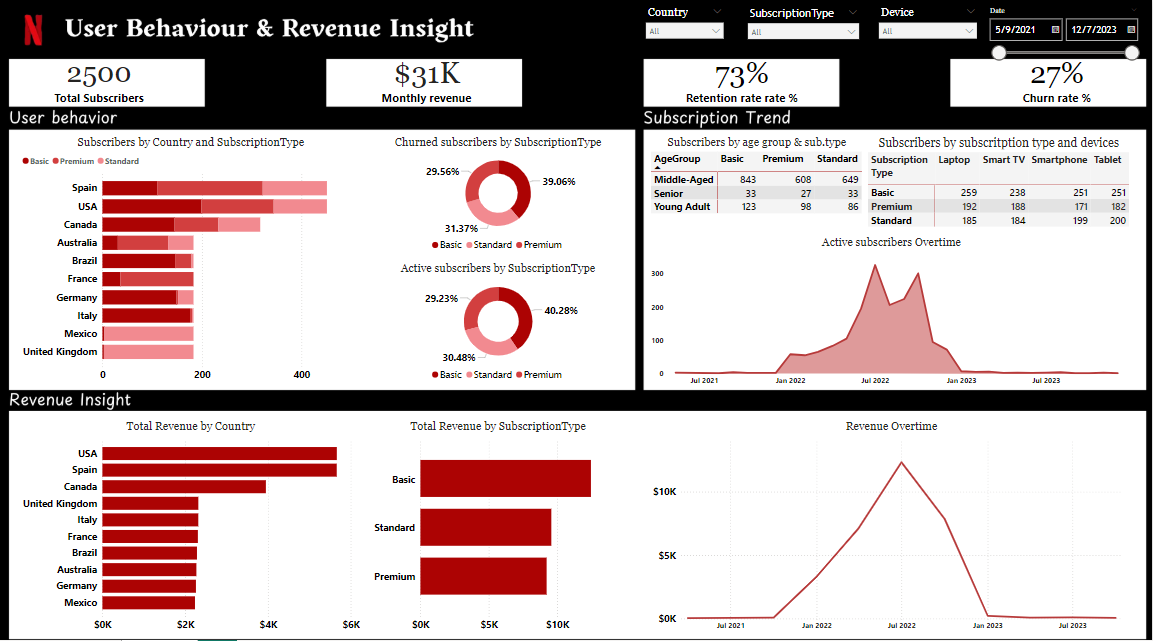

The page's visual inventory and layout, read from the dashboard file:
{"tool":"powerbi","page":{"name":"Page 1","canvas":[1920,1080],"ordinal":0},"visuals":[{"type":"card","fields":{"Values":["Netflix Userbase.Total Subscribers"]},"box":[11.7,80,306.7,100],"z":0},{"type":"card","fields":{"Values":["Netflix Userbase.Churn rate %"]},"box":[1615.5,79.3,293.1,100],"z":1000},{"type":"pivotTable","title":"Subscribers by age group & sub.type","fields":{"Values":["Netflix Userbase.Total Subscribers"],"Rows":["Netflix Userbase.AgeGroup"],"Columns":["Netflix Userbase.SubscriptionType"]},"box":[1079.7,227.1,362.7,149.2],"z":2000},{"type":"areaChart","title":"Active subscribers Overtime","fields":{"Category":["DateTable.Date.Variation.Date Hierarchy.Year","DateTable.Date.Variation.Date Hierarchy.Quarter","DateTable.Date.Variation.Date Hierarchy.Month","DateTable.Date.Variation.Date Hierarchy.Day"],"Y":["Netflix Userbase.Active subscribers"]},"box":[1079.7,393.2,811.9,259.3],"z":3000},{"type":"pivotTable","title":"Subscribers by subscritption type and devices","fields":{"Rows":["Netflix Userbase.SubscriptionType"],"Columns":["Netflix Userbase.Device"],"Values":["Netflix Userbase.Total Subscribers"]},"box":[1442.4,227.1,445.8,166.1],"z":4000},{"type":"card","fields":{"Values":["Netflix Userbase.Monthly revenue"]},"box":[556.7,80,308.3,100],"z":5000},{"type":"card","fields":{"Values":["Netflix Userbase.Retention rate rate %"]},"box":[1081.7,80,310,100],"z":6000},{"type":"barChart","title":"Total Revenue by Country","fields":{"Category":["Netflix Userbase.Country"],"Y":["Sum(Netflix Userbase.MonthlyRevenue)"]},"box":[32.2,700,572.9,361],"z":7000},{"type":"barChart","title":"Total Revenue by SubscriptionType","fields":{"Category":["Netflix Userbase.SubscriptionType"],"Y":["Sum(Netflix Userbase.MonthlyRevenue)"]},"box":[616.9,700,427.1,361],"z":8000},{"type":"barChart","title":"Subscribers by Country and SubscriptionType","fields":{"Category":["Netflix Userbase.Country"],"Y":["Netflix Userbase.Total Subscribers"],"Series":["Netflix Userbase.SubscriptionType"]},"box":[32.2,227.1,572.9,418.6],"z":9000},{"type":"lineChart","title":"Revenue Overtime","fields":{"Y":["Netflix Userbase.Monthly revenue"],"Category":["DateTable.Date.Variation.Date Hierarchy.Year","DateTable.Date.Variation.Date Hierarchy.Quarter","DateTable.Date.Variation.Date Hierarchy.Month","DateTable.Date.Variation.Date Hierarchy.Day"]},"box":[1083.1,700,805.1,361],"z":10000},{"type":"donutChart","fields":{"Category":["Netflix Userbase.SubscriptionType"],"Y":["Netflix Userbase.Active subscribers"]},"box":[616.9,437.3,427.1,208.5],"z":11000},{"type":"donutChart","fields":{"Category":["Netflix Userbase.SubscriptionType"],"Y":["Netflix Userbase.Churned subscribers"]},"box":[616.9,227.1,427.1,201.7],"z":12000},{"type":"slicer","fields":{"Values":["Netflix Userbase.Country"]},"box":[1066.1,5.1,149.2,74.6],"z":13000},{"type":"slicer","fields":{"Values":["Netflix Userbase.SubscriptionType"]},"box":[1237.3,5.1,205.1,74.6],"z":14000},{"type":"slicer","fields":{"Values":["Netflix Userbase.Device"]},"box":[1454.2,5.1,183.1,74.6],"z":15000},{"type":"slicer","fields":{"Values":["DateTable.Date"]},"box":[1637.3,5.1,271.2,106.8],"z":16000}]}

Visuals, with their boxes in screenshot pixels (x1, y1, x2, y2), scaled from the page's 1920x1080 canvas onto the 1153x641 screenshot:
card - Netflix Userbase.Total Subscribers: left=7, top=47, right=191, bottom=107
card - Netflix Userbase.Churn rate %: left=970, top=47, right=1146, bottom=106
"Subscribers by age group & sub.type" pivotTable: left=648, top=135, right=866, bottom=223
"Active subscribers Overtime" areaChart: left=648, top=233, right=1136, bottom=387
"Subscribers by subscritption type and devices" pivotTable: left=866, top=135, right=1134, bottom=233
card - Netflix Userbase.Monthly revenue: left=334, top=47, right=519, bottom=107
card - Netflix Userbase.Retention rate rate %: left=650, top=47, right=836, bottom=107
"Total Revenue by Country" barChart: left=19, top=415, right=363, bottom=630
"Total Revenue by SubscriptionType" barChart: left=370, top=415, right=627, bottom=630
"Subscribers by Country and SubscriptionType" barChart: left=19, top=135, right=363, bottom=383
"Revenue Overtime" lineChart: left=650, top=415, right=1134, bottom=630
donutChart - Netflix Userbase.SubscriptionType x Netflix Userbase.Active subscribers: left=370, top=260, right=627, bottom=383
donutChart - Netflix Userbase.SubscriptionType x Netflix Userbase.Churned subscribers: left=370, top=135, right=627, bottom=255
slicer - Netflix Userbase.Country: left=640, top=3, right=730, bottom=47
slicer - Netflix Userbase.SubscriptionType: left=743, top=3, right=866, bottom=47
slicer - Netflix Userbase.Device: left=873, top=3, right=983, bottom=47
slicer - DateTable.Date: left=983, top=3, right=1146, bottom=66
